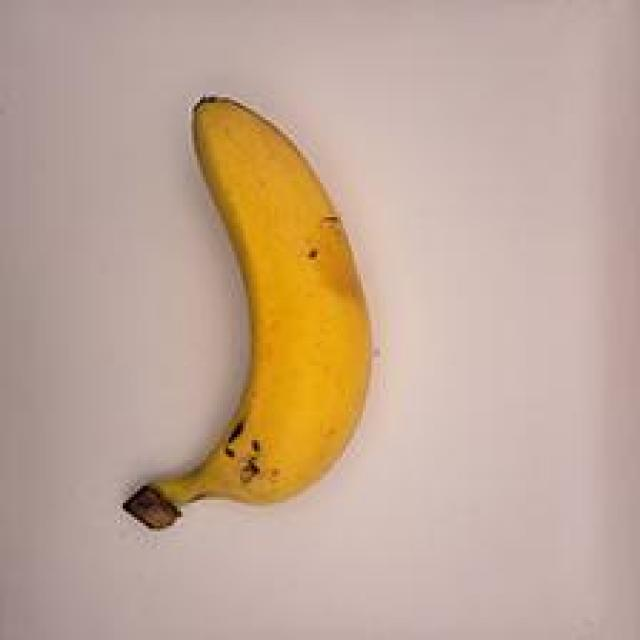ripe: (107, 82, 406, 533)
